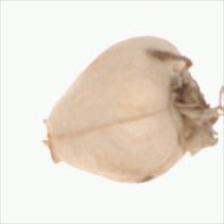L3: (41, 117, 69, 165)
L4: (43, 37, 213, 183)
